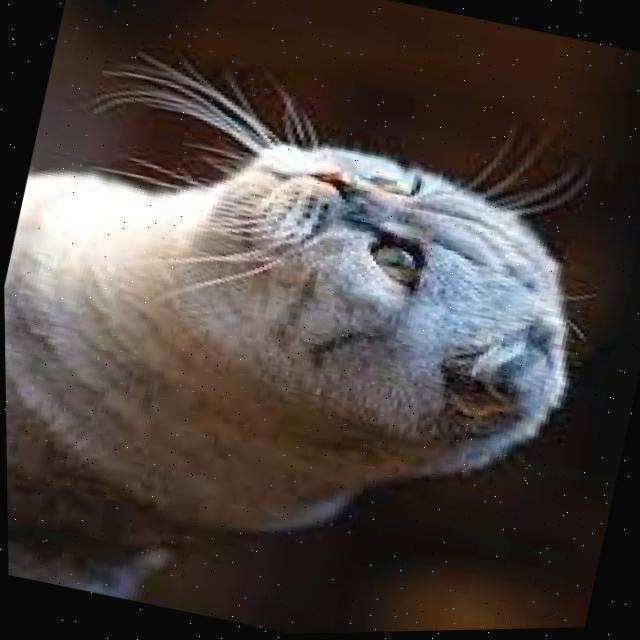Scottish Fold: (1, 68, 617, 640)
